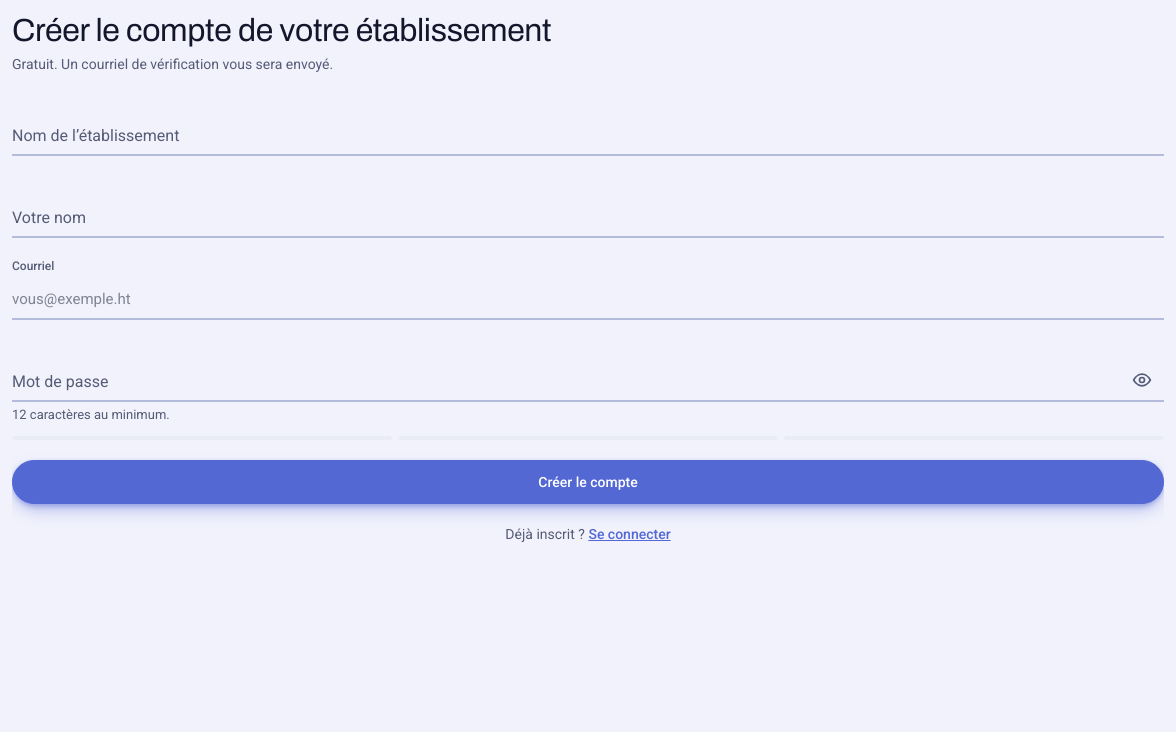
RegisterForm › shows an error that belongs to no field in one alert, in the language of the page
Type "Collège" into the field with test id "register-institution-name" at (588, 134), box x1=12 y1=112 x2=1164 y2=156
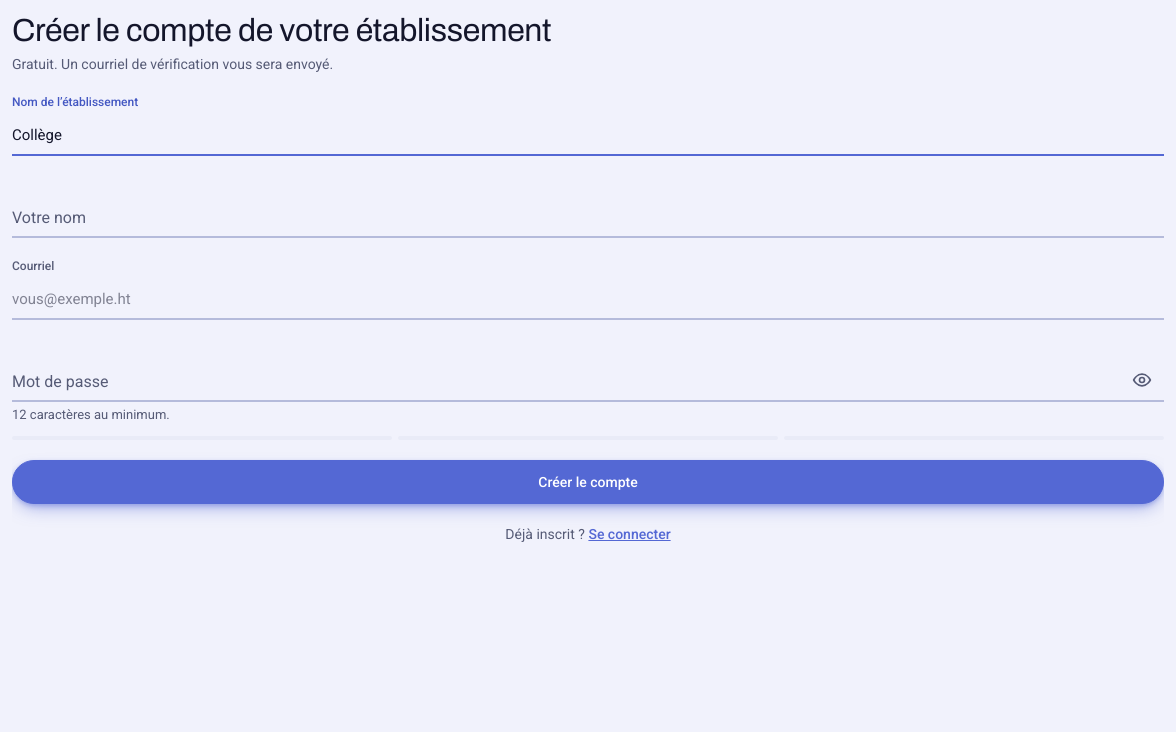
Type "Marie" into the field with test id "register-name" at (588, 216), box x1=12 y1=194 x2=1164 y2=238
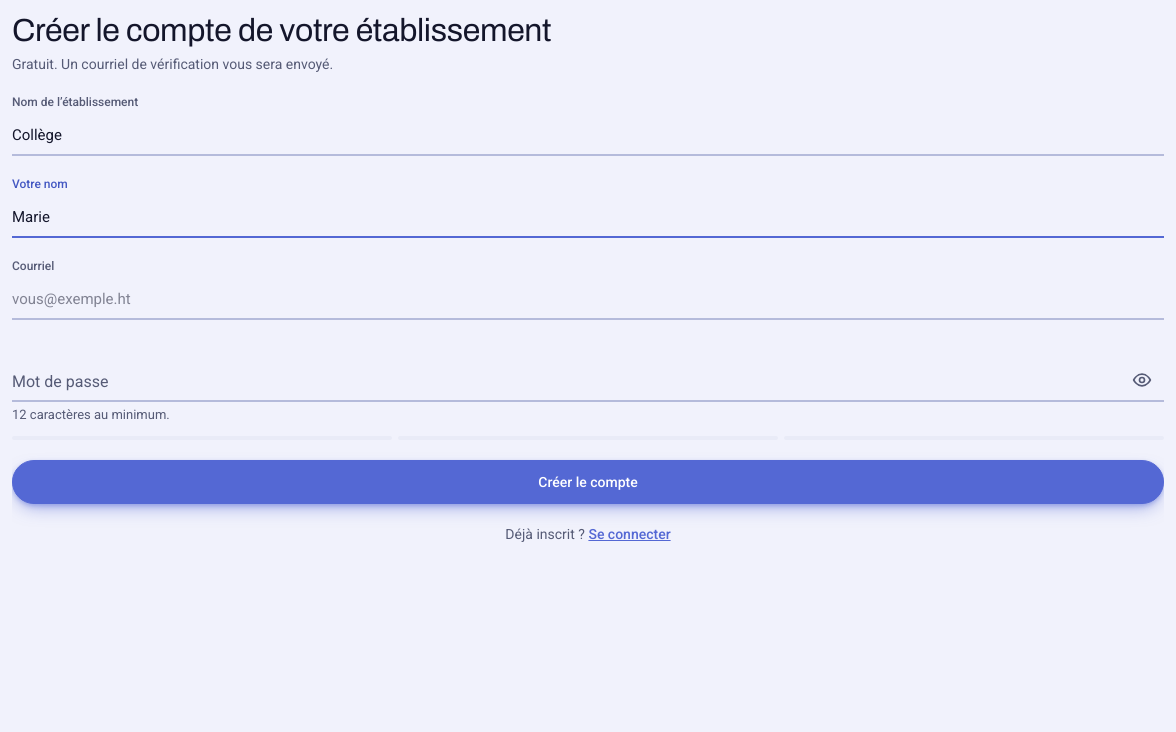
Type "marie@example.test" into the field with test id "register-email" at (588, 298), box x1=12 y1=276 x2=1164 y2=320
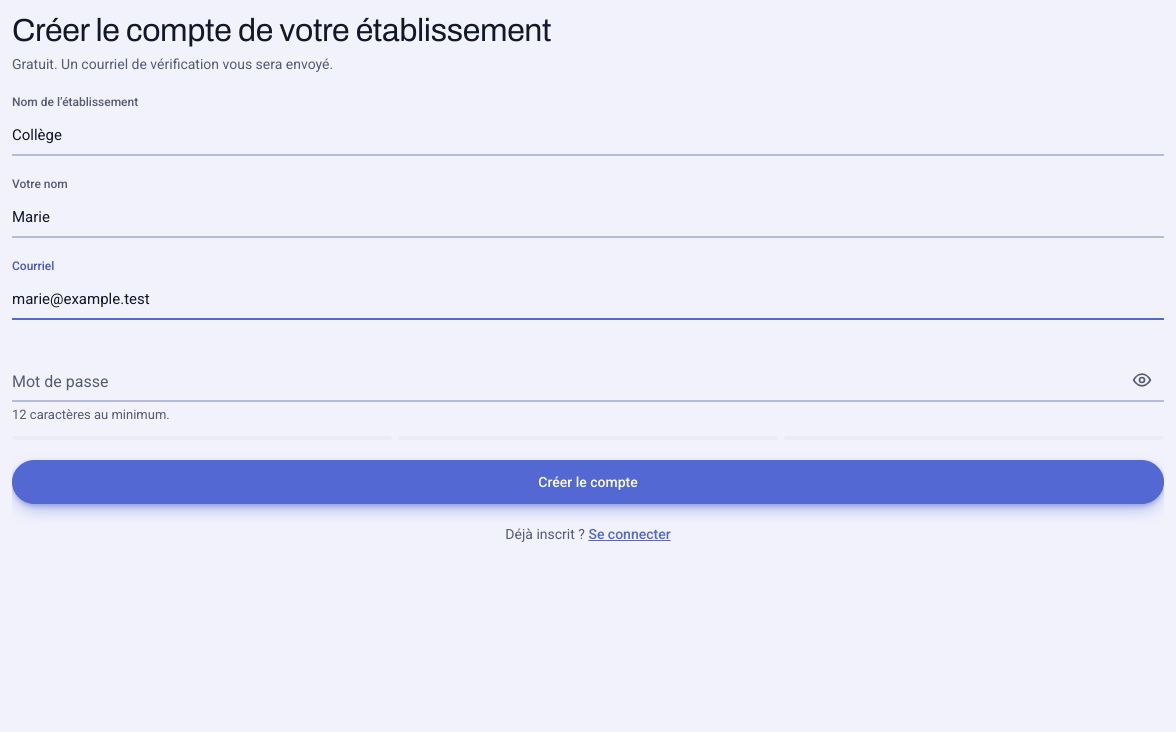
Type "a long enough password" into the password field with test id "register-password" at (588, 380), box x1=12 y1=358 x2=1164 y2=402
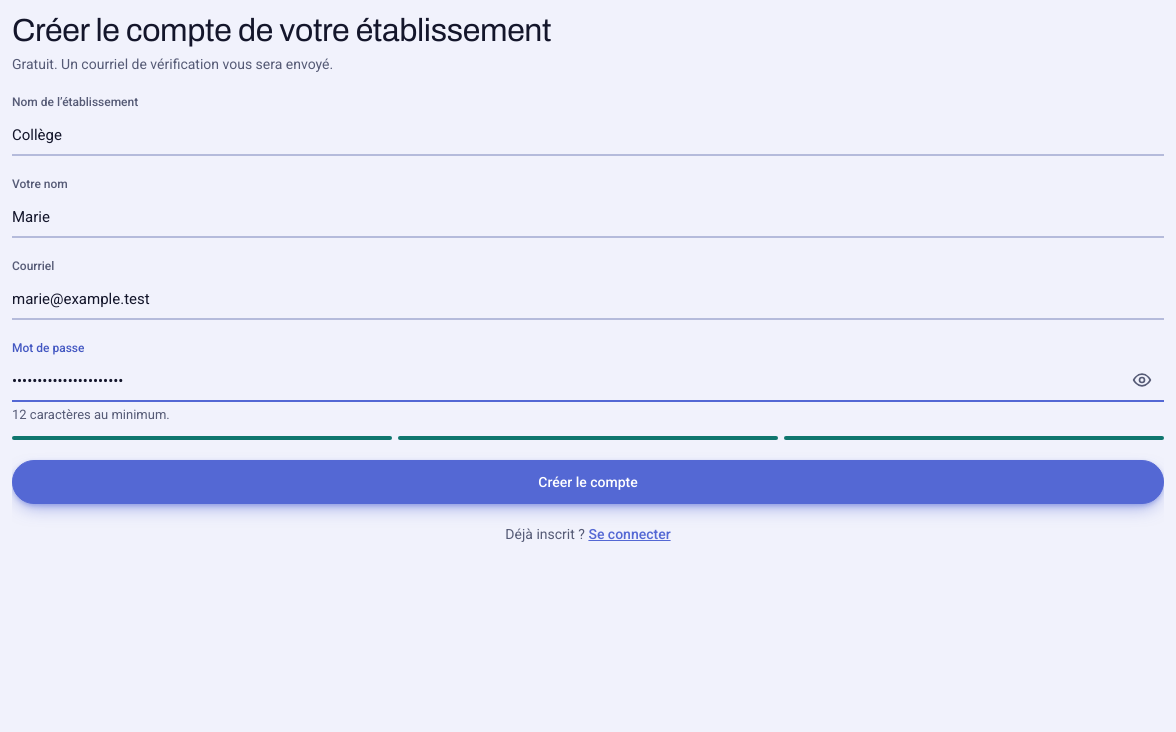
Click the button with test id "register-submit" at (588, 482), box x1=12 y1=460 x2=1164 y2=504
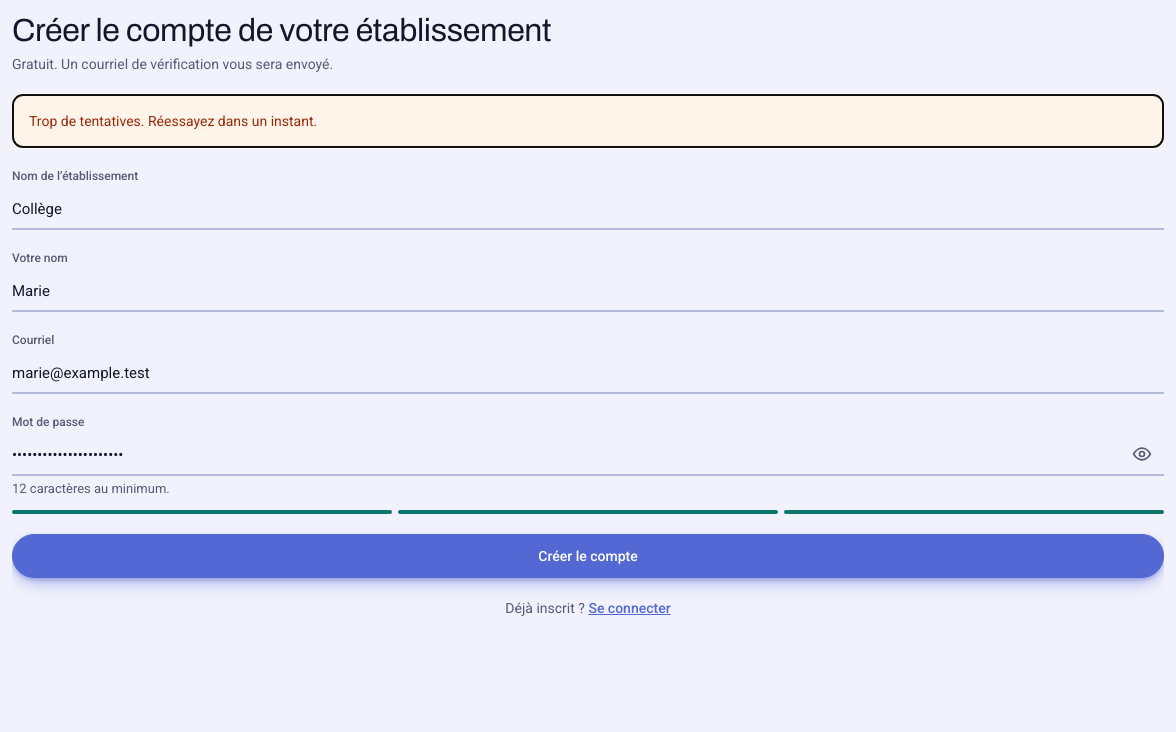
Expected: the button with test id "register-submit" is enabled, x1=12 y1=534 x2=1164 y2=578
Expected: the message shows "Trop de tentatives", x1=29 y1=113 x2=317 y2=129
